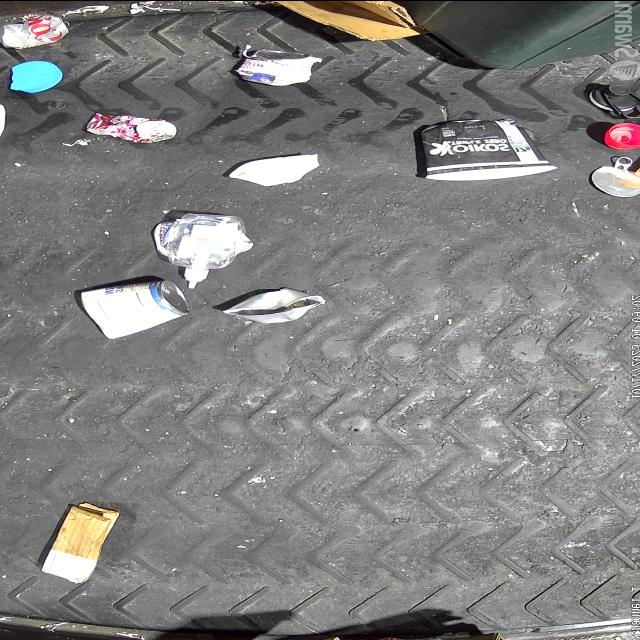can: (79, 278, 192, 340), (222, 287, 326, 323), (86, 110, 178, 142), (0, 10, 73, 48), (238, 50, 316, 84)
